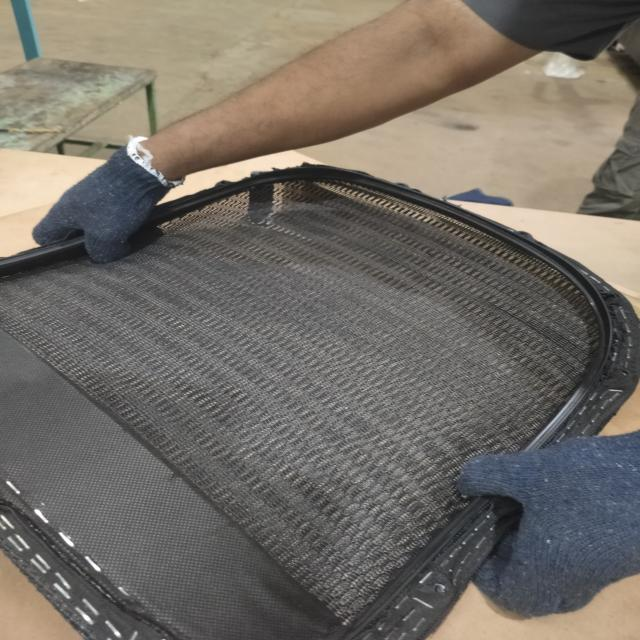Gloves-Detection: (448, 442, 640, 618), (36, 131, 166, 254)
